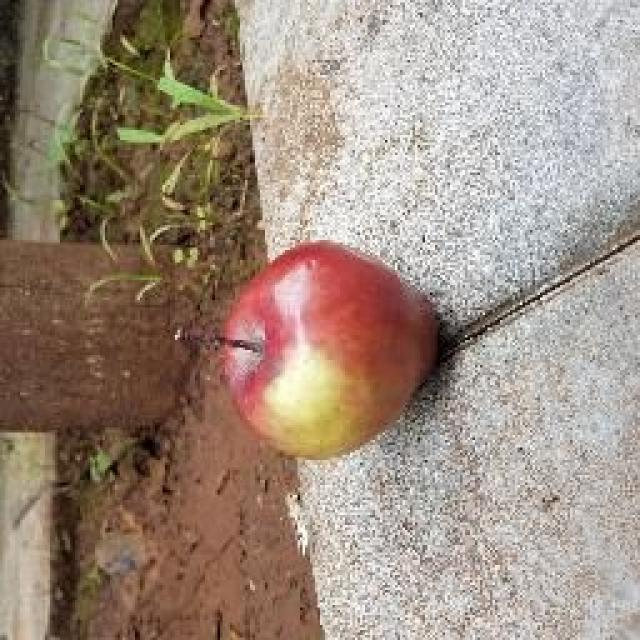Good_Apple: (218, 240, 442, 462)
